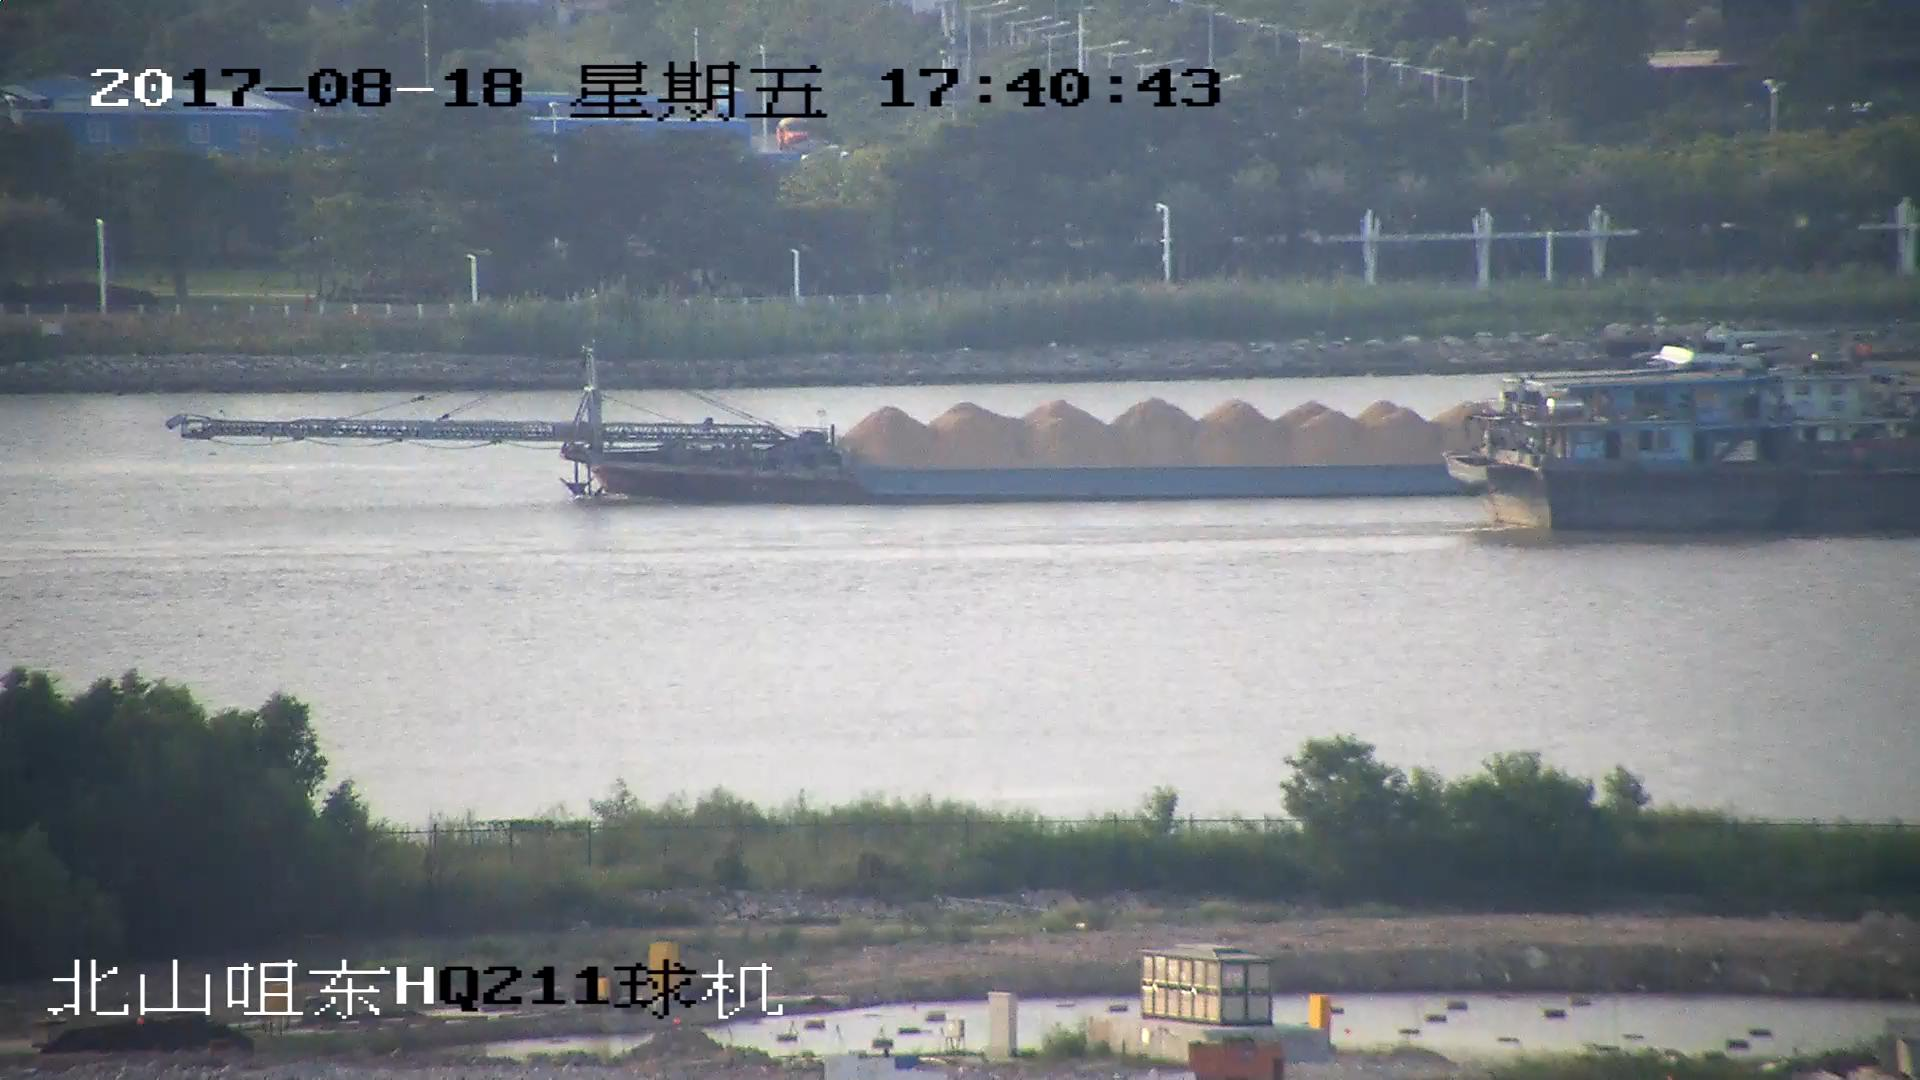bulk cargo carrier: (1457, 381, 1920, 539)
ore carrier: (171, 347, 1505, 503)
